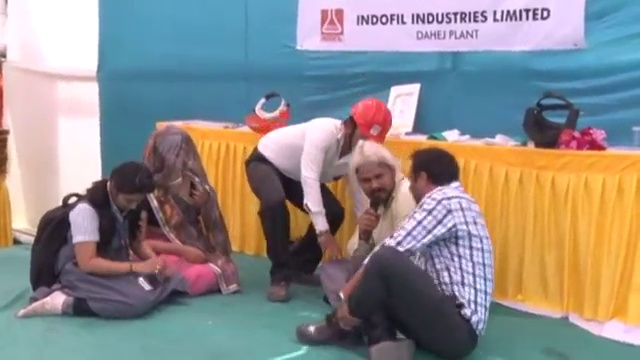helmet: (351, 94, 393, 145)
helmet_off: (146, 129, 200, 195), (401, 148, 461, 204), (103, 161, 160, 218), (350, 144, 397, 203)
helmet_on: (338, 89, 393, 155)
person: (294, 148, 501, 360), (247, 92, 395, 304), (13, 159, 185, 315), (138, 122, 238, 296), (315, 153, 418, 306)
